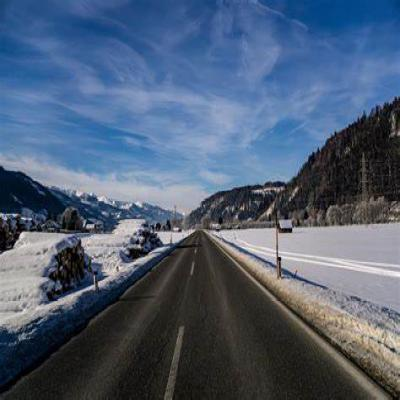clear-road: (0, 232, 390, 400)
